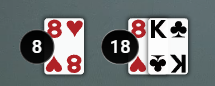8: (43, 17, 66, 41), (127, 17, 149, 40)
k: (147, 17, 169, 41)
